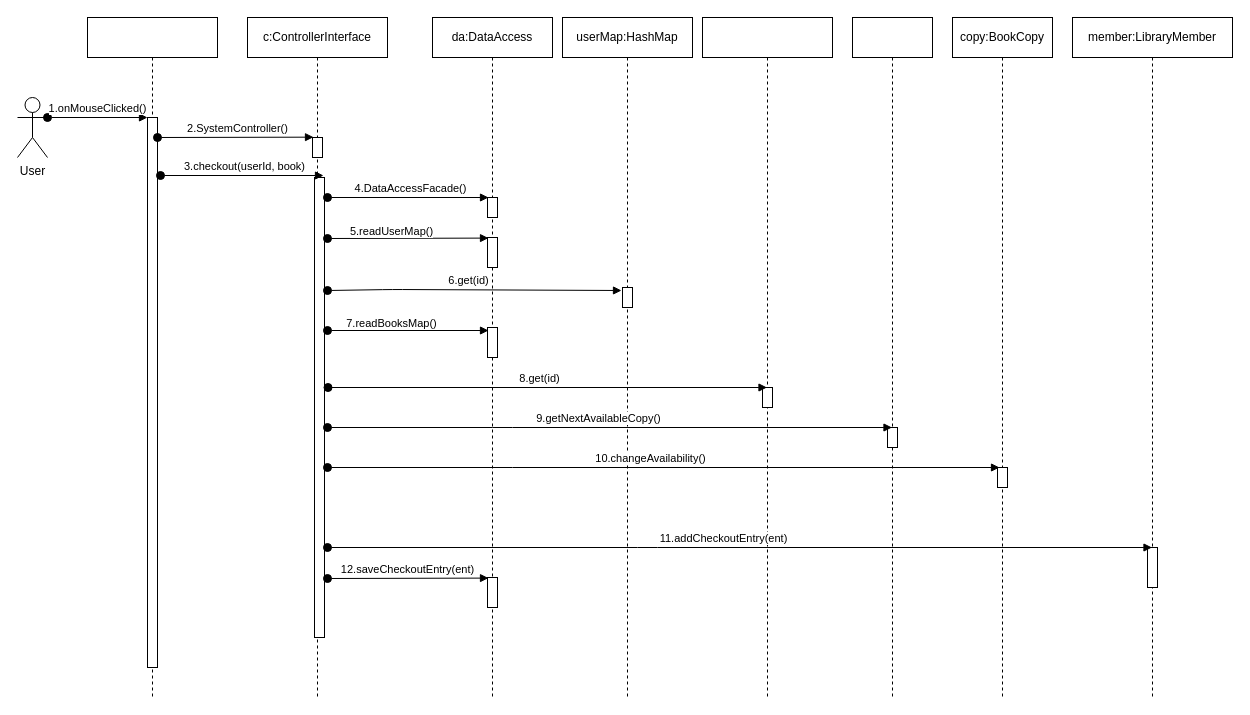
Some shapes in this 1250 by 715 pixel diagram are drawn without their labels. The box of each missing label's shape, as (x1, y1, x2, y2) in pixels:
book:Book: (852, 16, 932, 698)
bookMap:HashMap: (702, 16, 832, 698)
btnCheckout:Button: (86, 16, 218, 698)
